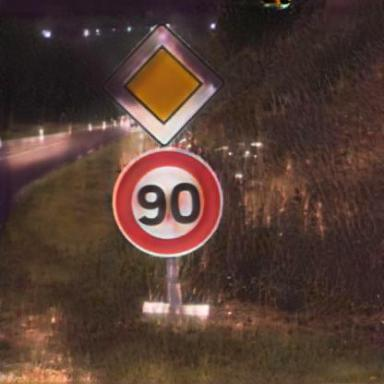Speed_limit_90: (114, 151, 221, 258)
